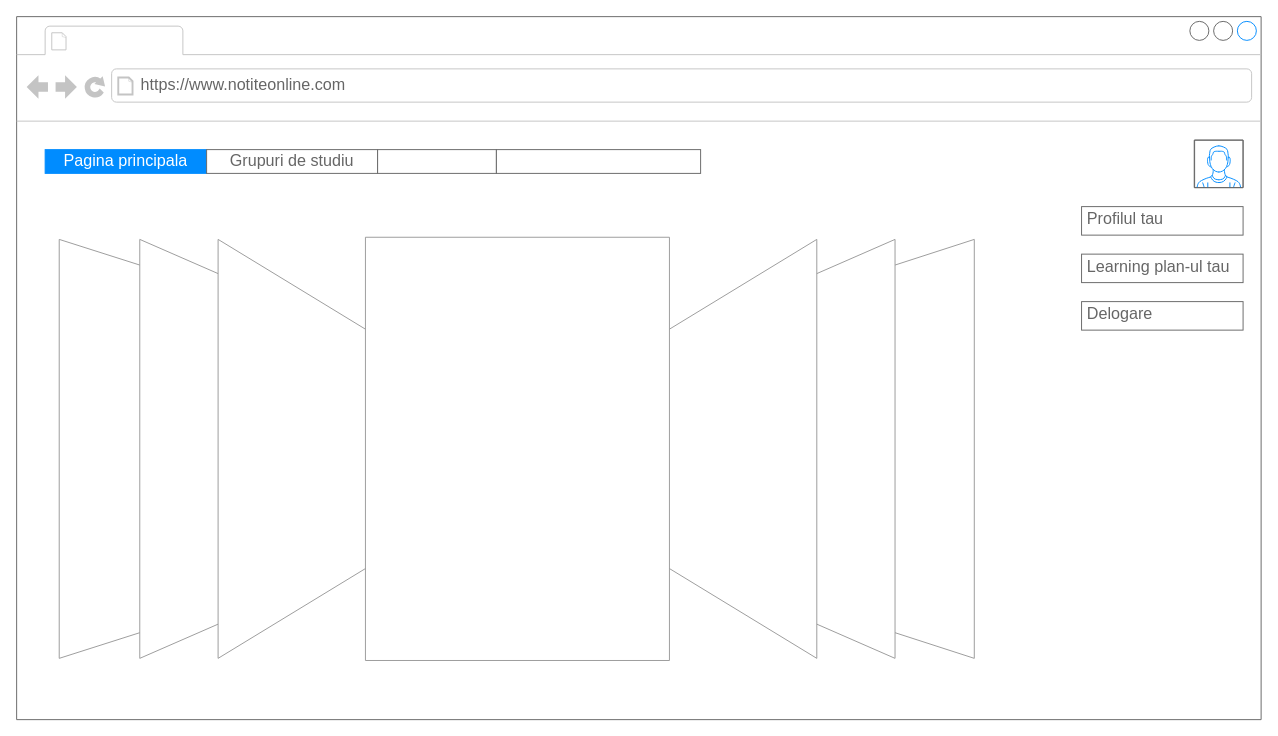
Image size: 1278x736. Some labels were removed from this diagram. Here are the shapes that lost their labels. From the top down, the box of each, then its label:
(73, 27, 207, 53): Principala
(377, 149, 496, 173): Notite
(495, 149, 701, 173): Intrebari si raspunsuri
